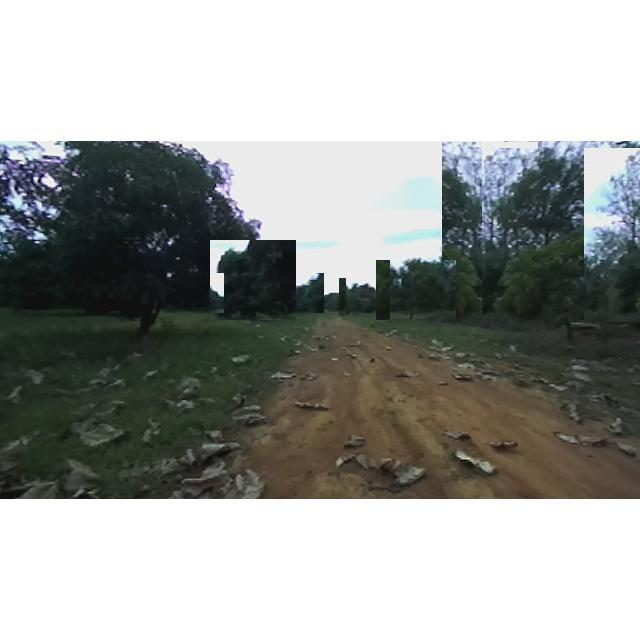direk: (19, 142, 258, 336), (482, 148, 640, 356), (442, 142, 538, 322), (210, 240, 296, 320), (376, 260, 456, 320), (282, 273, 324, 313), (339, 278, 383, 316)
